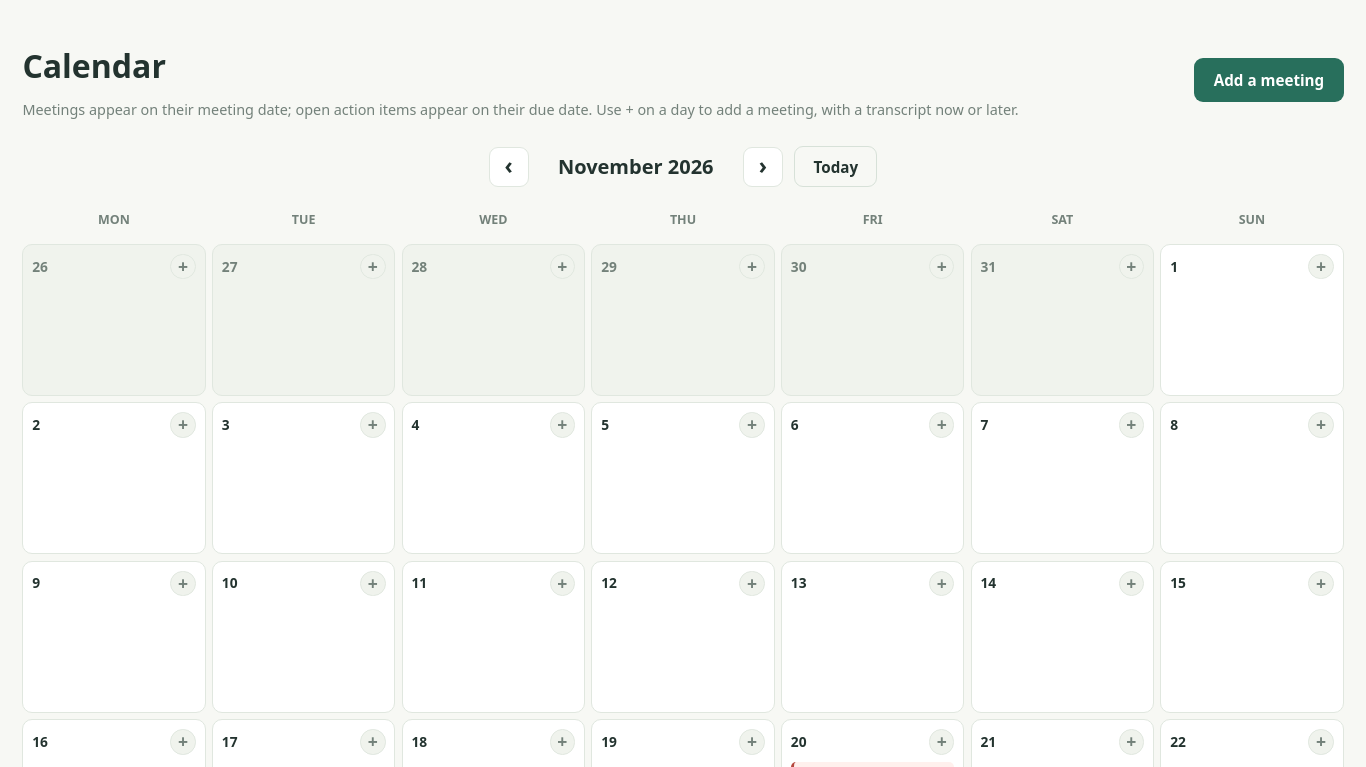
Test: CalendarView › shows meetings and overdue action items with links to their source meeting
expect the heading "November 2026" is shown: met, box x1=558 y1=153 x2=714 y2=180
Click the button named "Next month": coordinates (763, 167) x1=743 y1=147 x2=783 y2=187
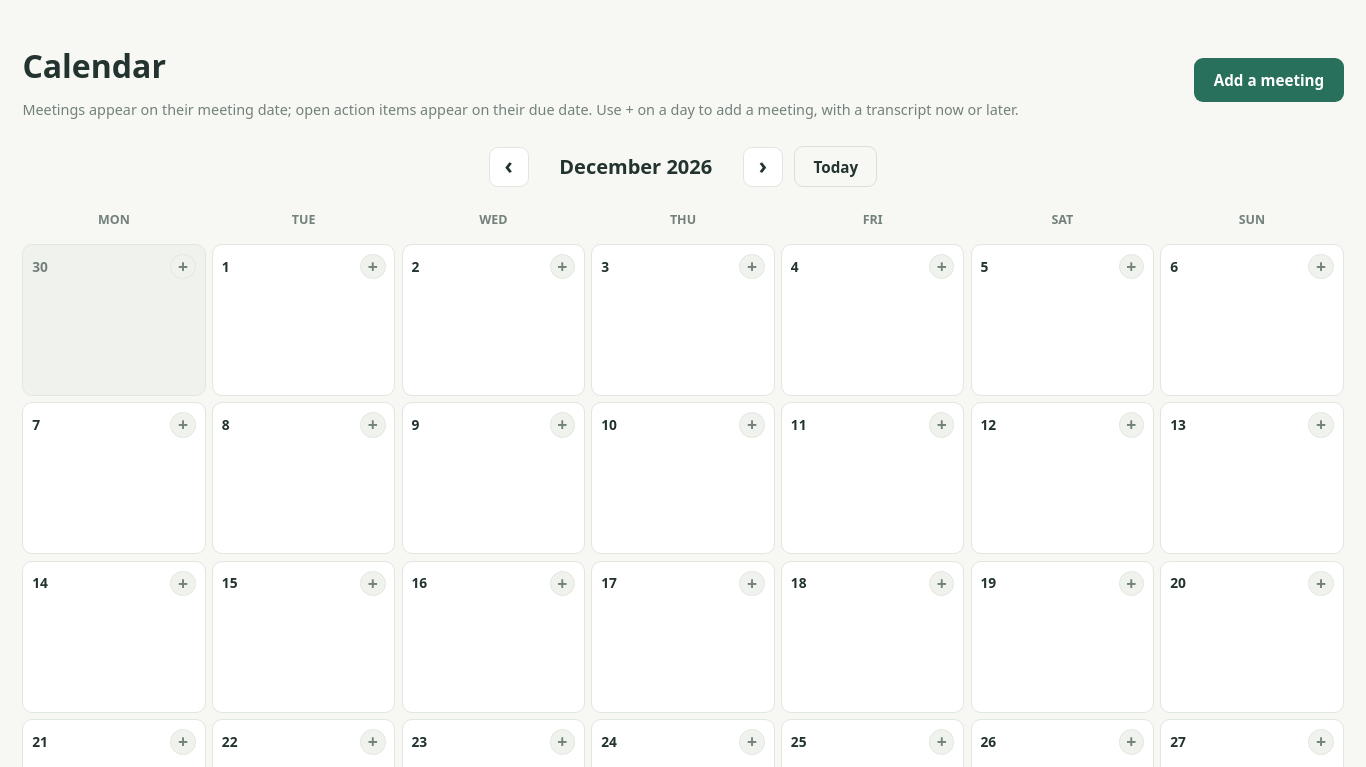
expect the heading "December 2026" is shown: met, box x1=559 y1=153 x2=712 y2=180
Click the button named "Previous month": coordinates (508, 167) x1=488 y1=147 x2=528 y2=187
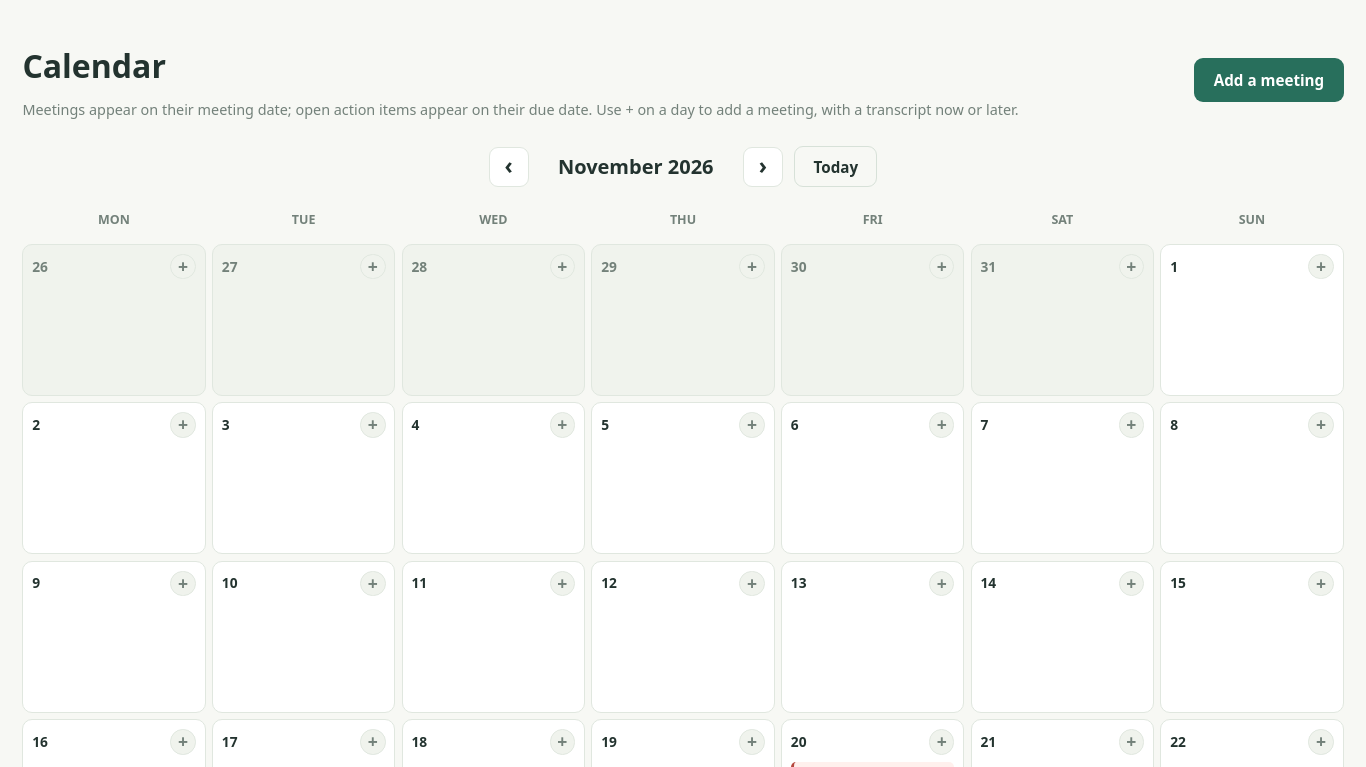
expect the heading "November 2026" is shown: met, box x1=558 y1=153 x2=714 y2=180
